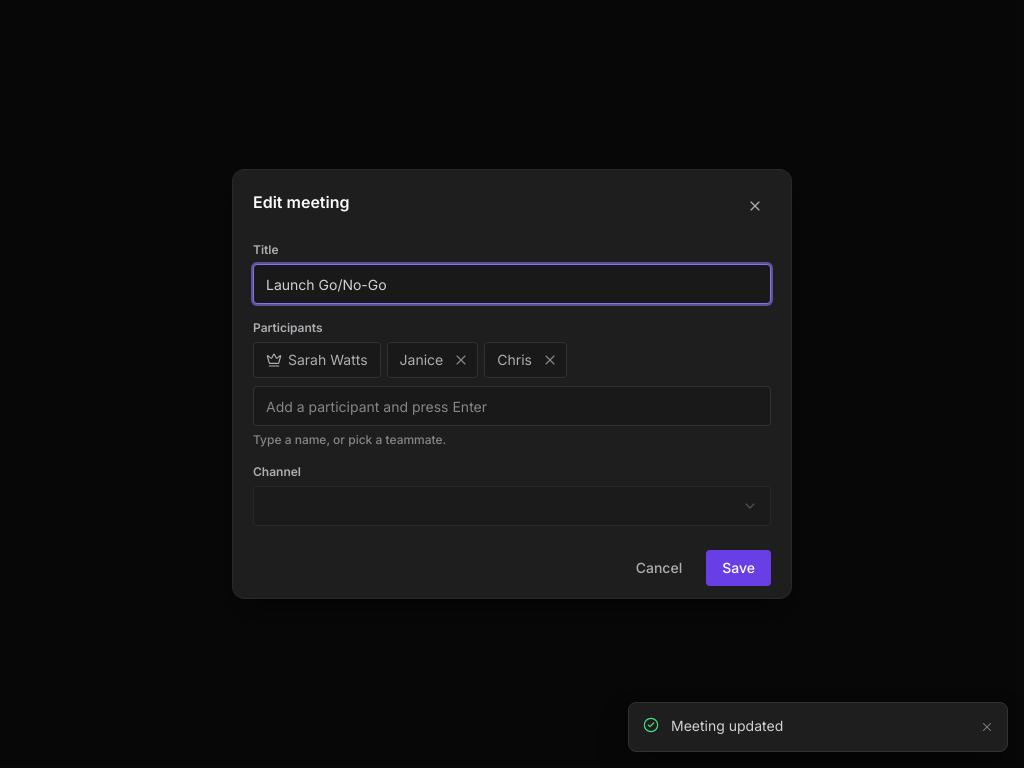
Scenario: EditMeetingModal › shows a participant name clash (409) inline and stays open
Type "Pat" into the dropdown labelled "Participants".
click(512, 406); type("Pat")  # box x1=253 y1=386 x2=771 y2=426
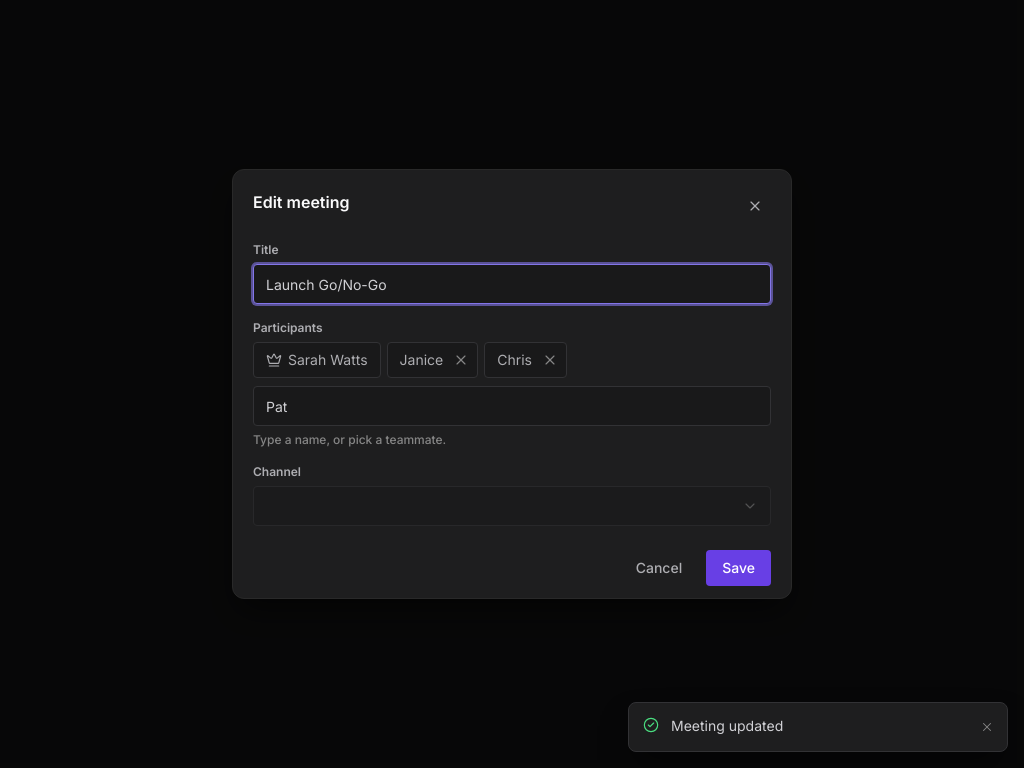
Press Enter in the dropdown labelled "Participants", box x1=253 y1=386 x2=771 y2=426
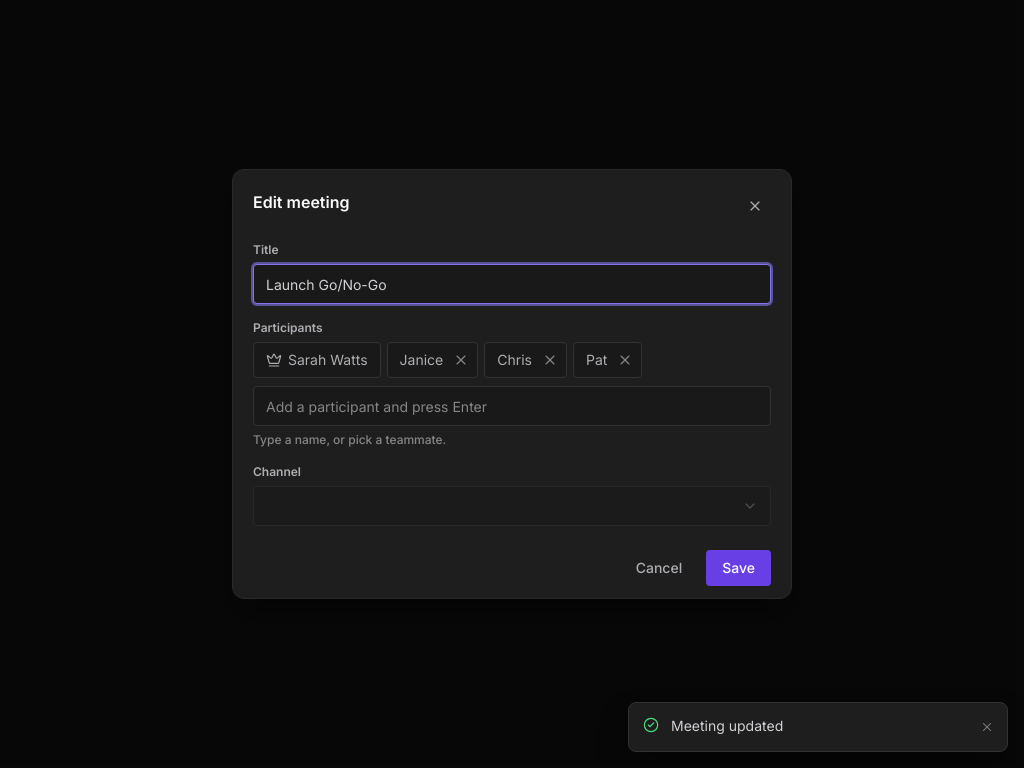
Click the button "Save".
click(739, 568)  # box x1=706 y1=550 x2=771 y2=586
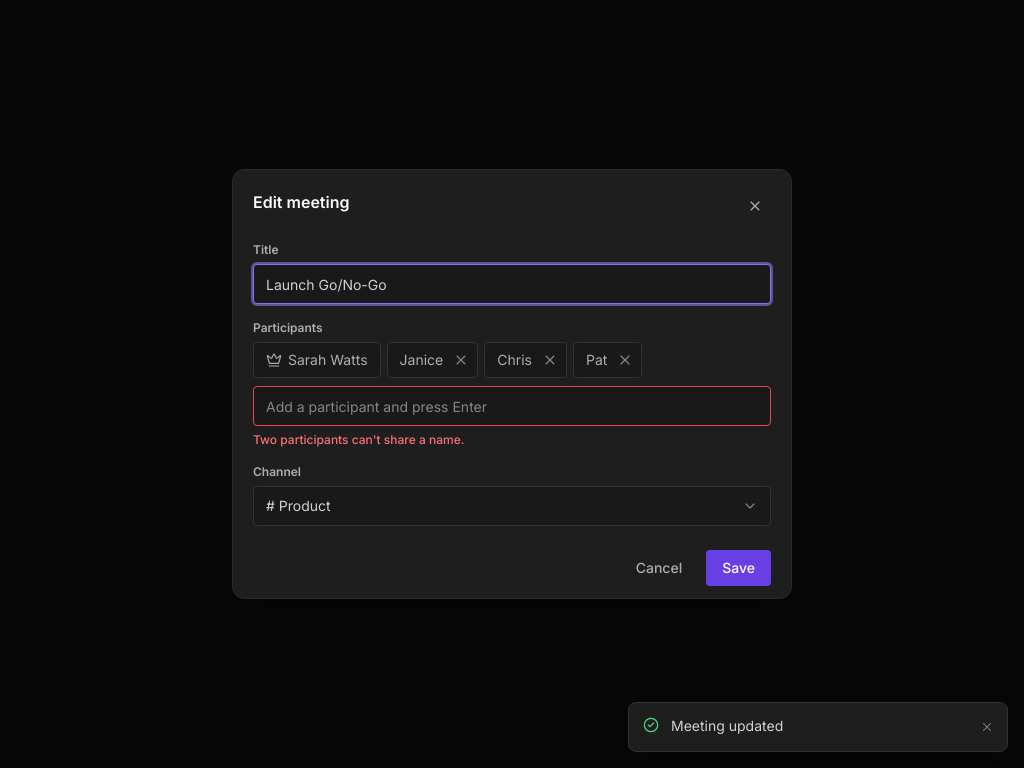
expect the text "Two participants can't share a name." is shown: met, box x1=253 y1=432 x2=464 y2=447
